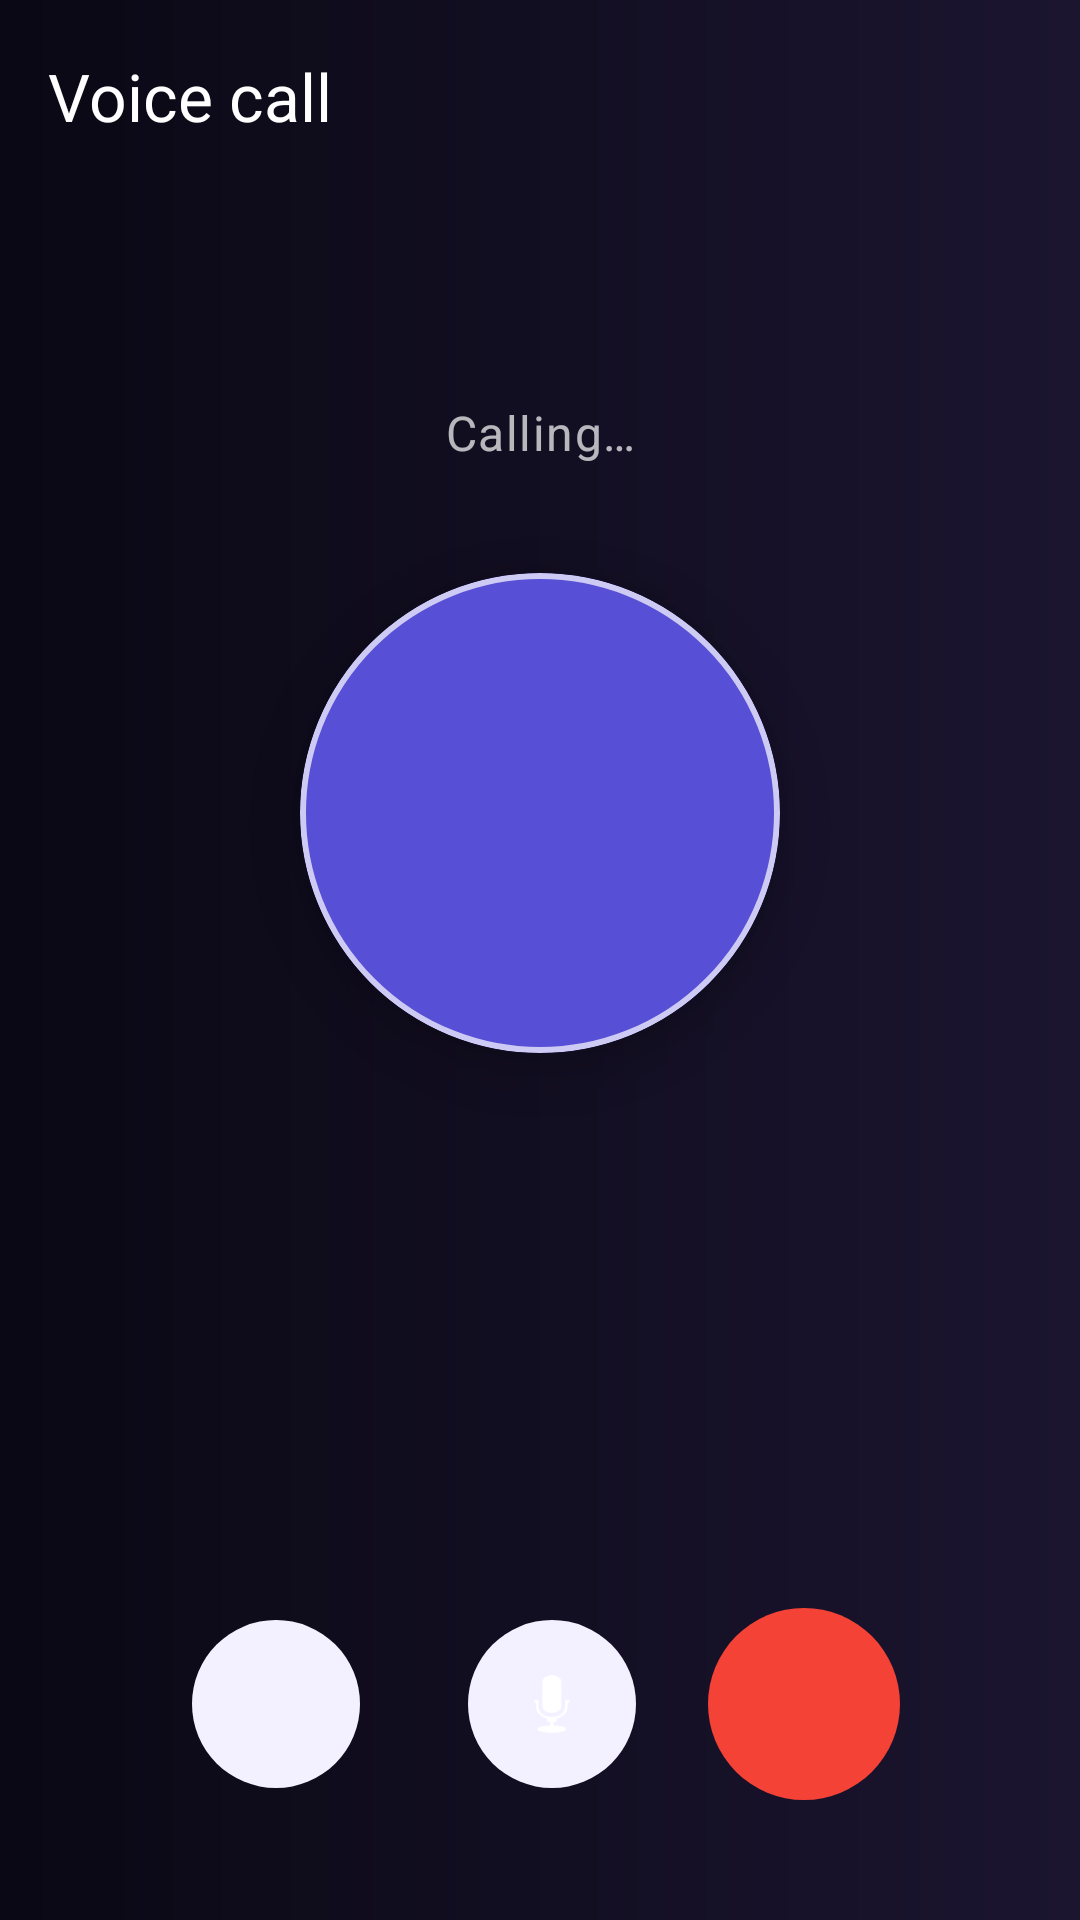

Icon click points for this 1080*1920 phone screenshot, format point (x, y):
Mute: point (552, 1704)
